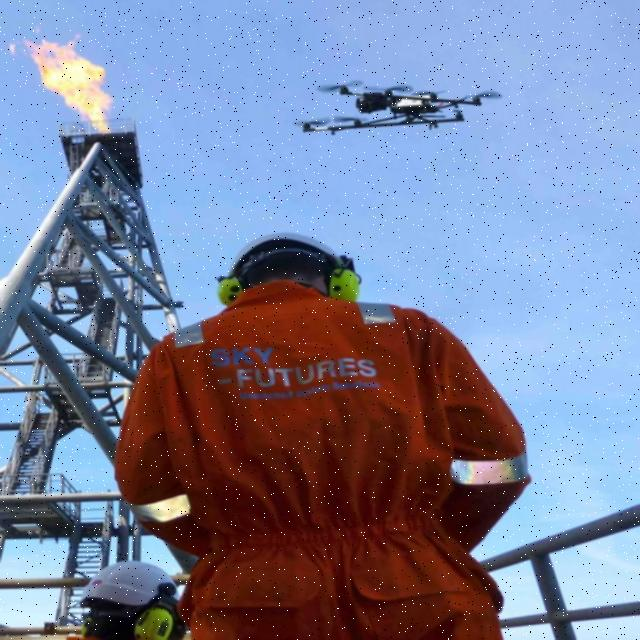UAV: (314, 74, 500, 140)
